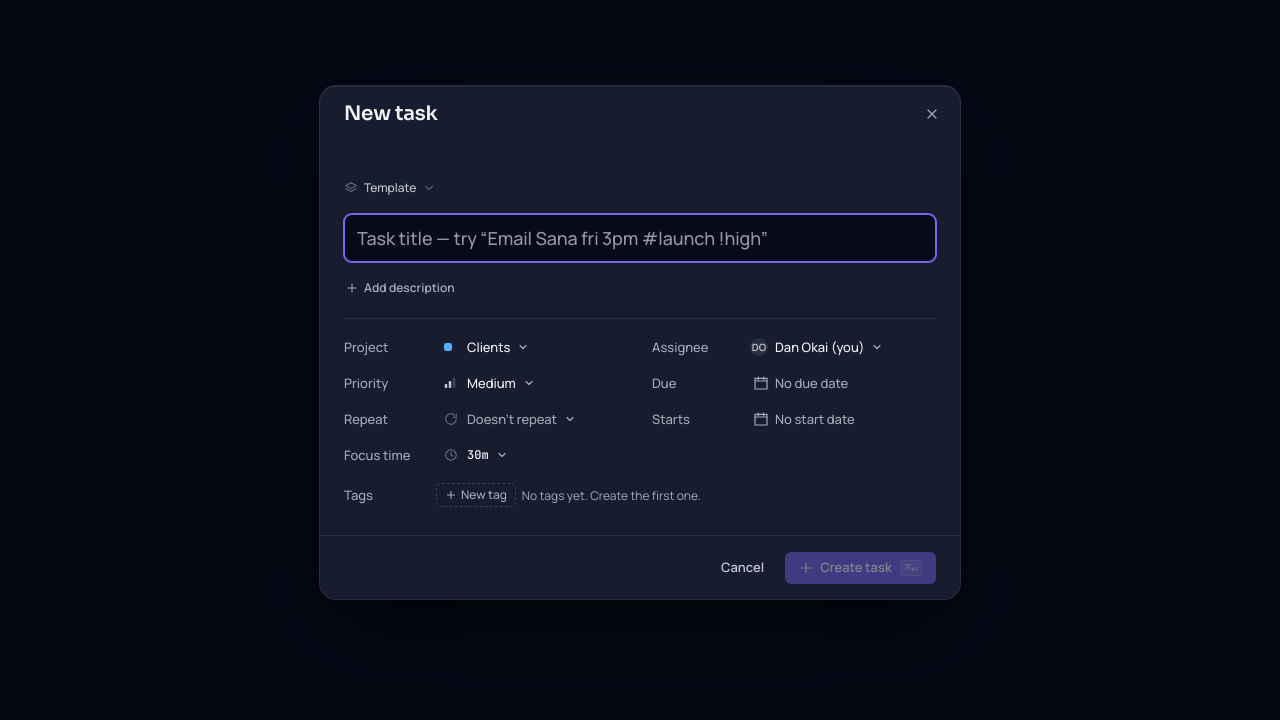
Test case: New task from a template › “/” lists the library under the title; Enter applies one and selects its placeholder
Type "/onb" into the text box labelled "Task title" at x=640, y=238, box top-left (357, 224), bottom-right (923, 252)
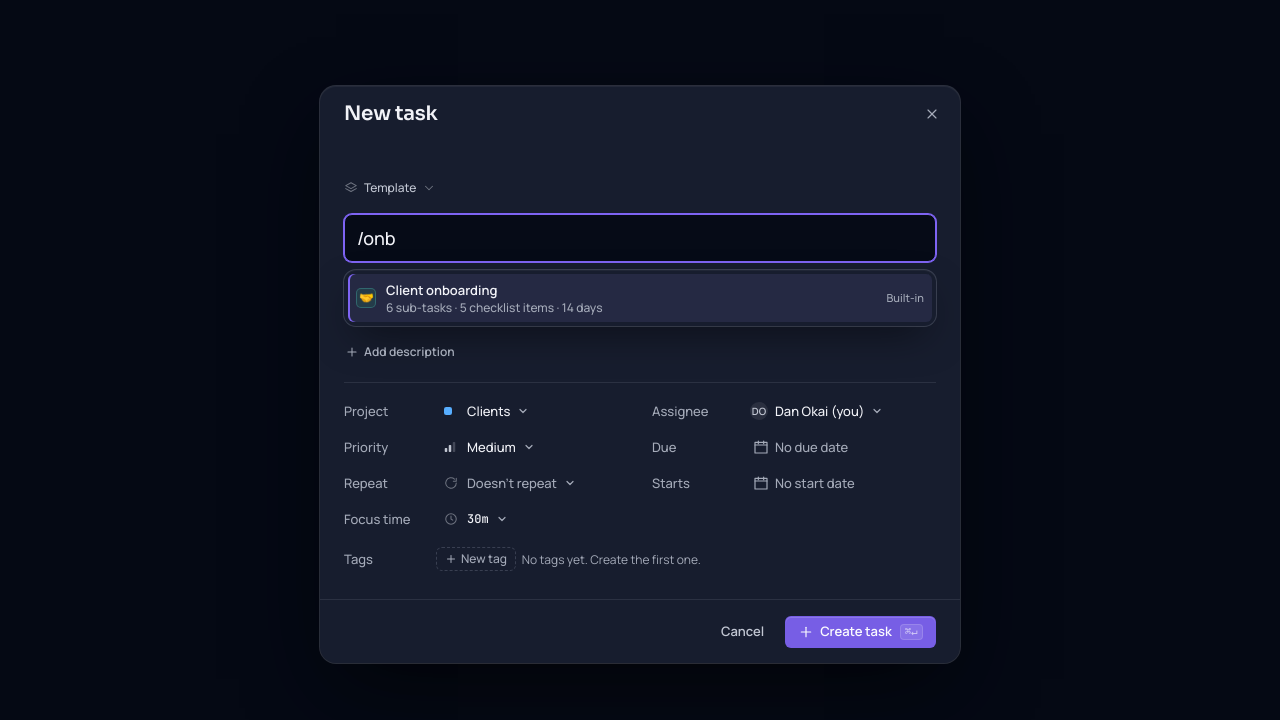
Result: the option shows "Client onboarding" at top-left (348, 274), bottom-right (932, 322)
Press Enter in the text box named "Task title", box top-left (357, 224), bottom-right (923, 252)
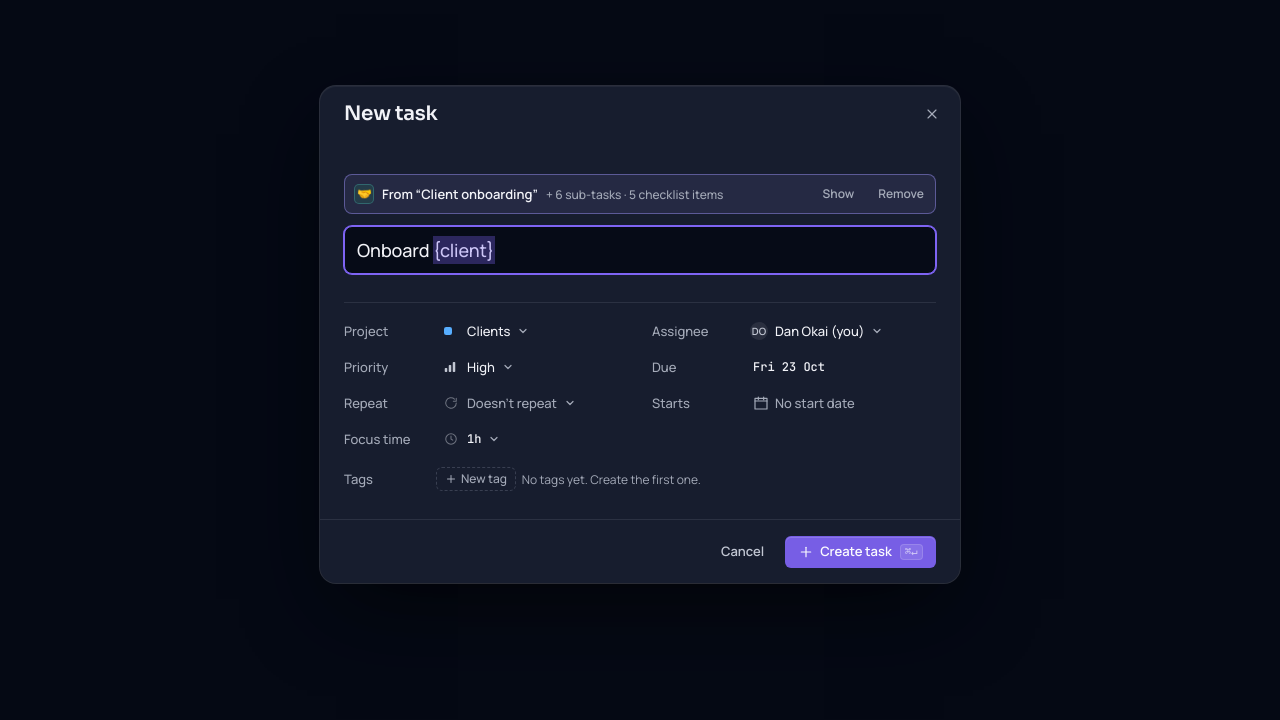
Result: the list "Templates" is gone
Result: the text box named "Task title" holds "Onboard {client}" at top-left (357, 236), bottom-right (923, 264)
Result: the dropdown labelled "Priority" shows "High" at top-left (436, 351), bottom-right (524, 383)
Click the button "Show" at x=838, y=194, box top-left (815, 180), bottom-right (862, 208)
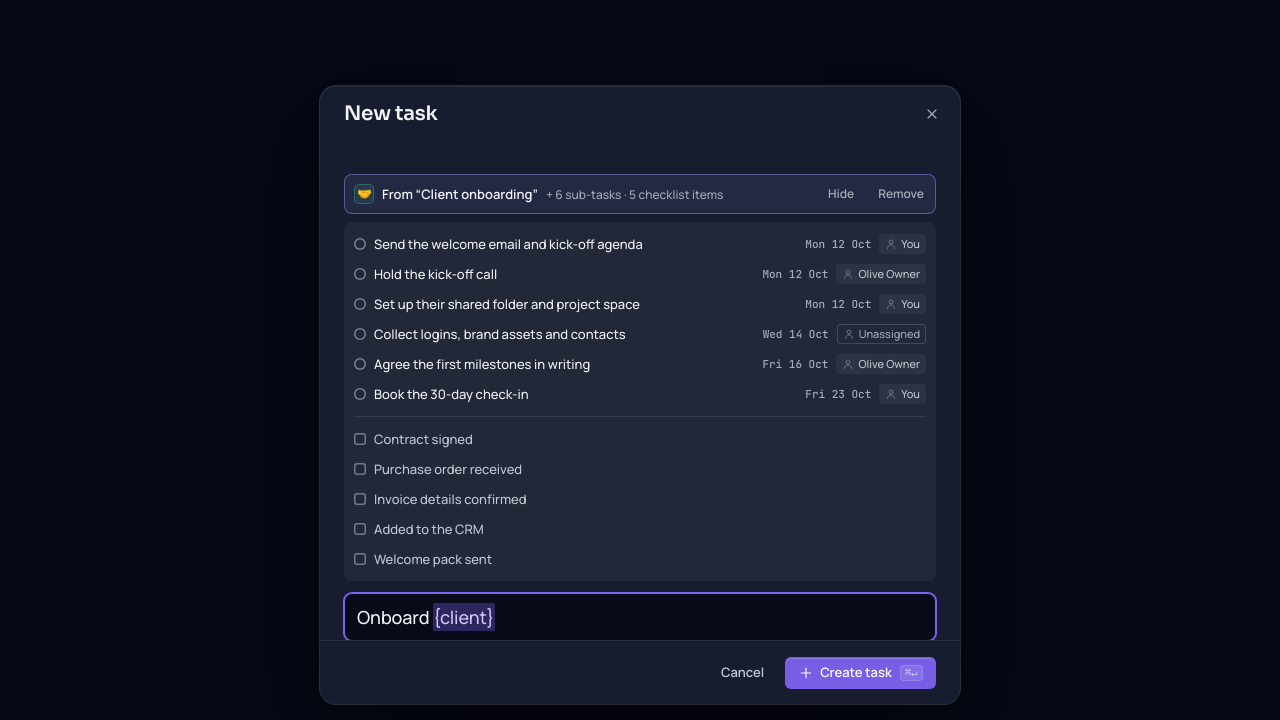
Result: the list items read "Send the welcome email and kick-off agendaMon 12 OctYou", "Hold the kick-off callMon 12 OctOlive Owner", "Set up their shared folder and project spaceMon 12 OctYou", "Collect logins, brand assets and contactsWed 14 OctUnassigned", "Agree the first milestones in writingFri 16 OctOlive Owner", "Book the 30-day check-inFri 23 OctYou", in this order at top-left (354, 230), bottom-right (926, 258); top-left (354, 260), bottom-right (926, 288); top-left (354, 290), bottom-right (926, 318); top-left (354, 320), bottom-right (926, 348); top-left (354, 350), bottom-right (926, 378); top-left (354, 380), bottom-right (926, 408)
